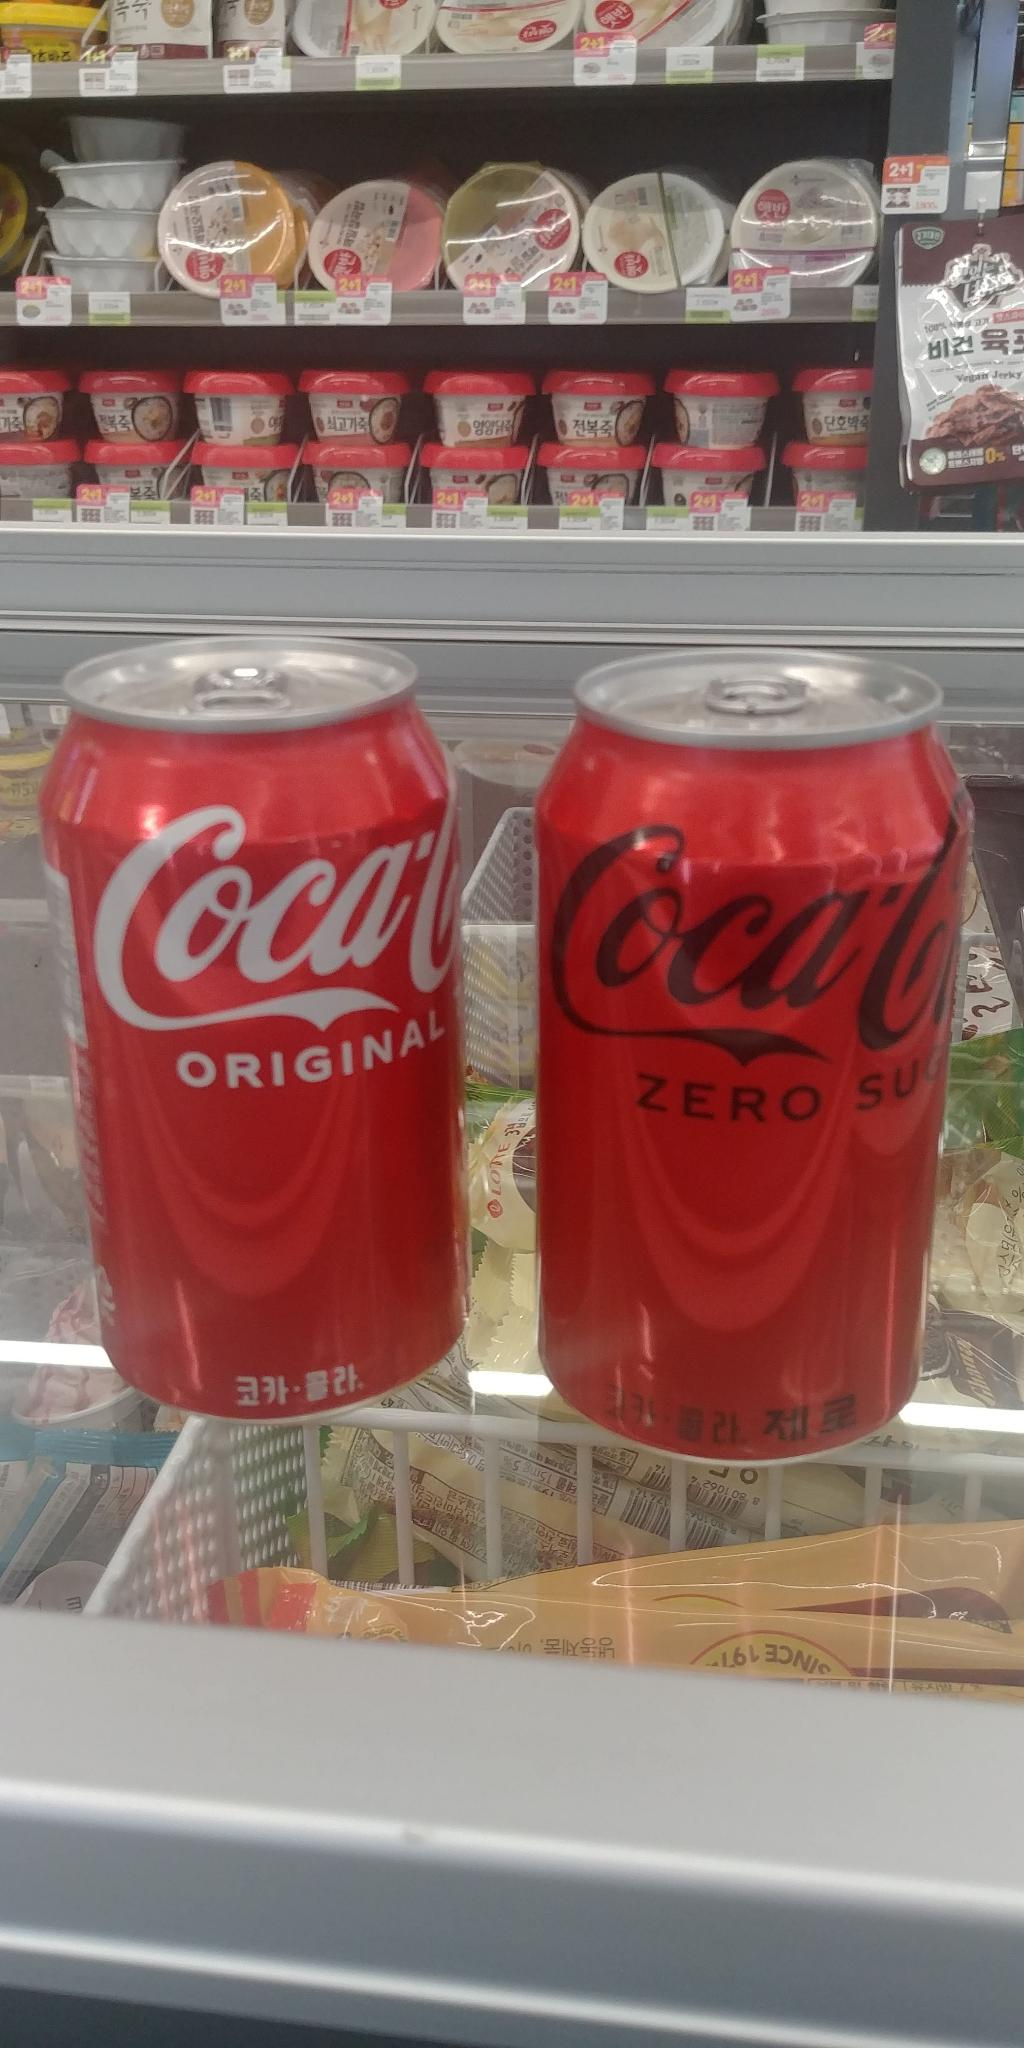cocacola: (48, 623, 490, 1428)
